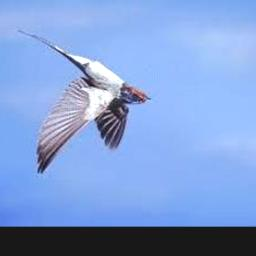Swallow: (18, 30, 150, 175)
